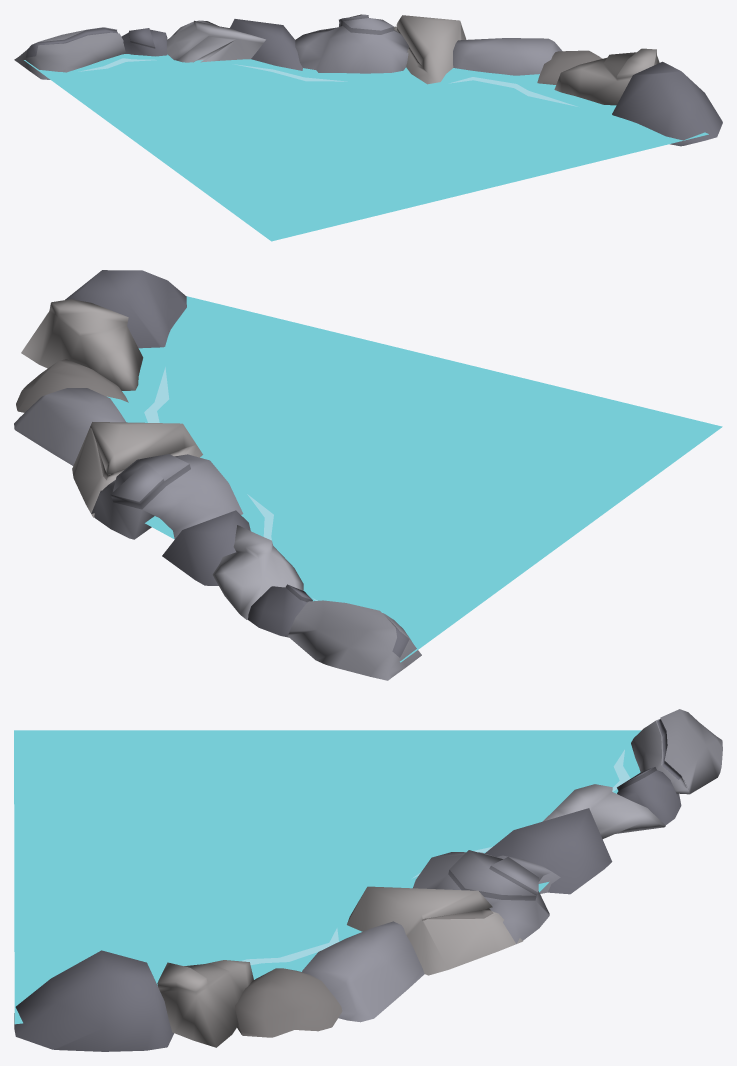
File: WaterPatchCurve_02.glb
The picture shows the model from 3 angles, top to bottom: view 1: azimuth 30°, elevation 25°; view 2: azimuth 150°, elevation 25°; view 3: azimuth 270°, elevation 25°; orthographic projection. The views are drawn at different scales.
Visible parts, largest first — view 1: WaterPatchCurve_02; view 2: WaterPatchCurve_02; view 3: WaterPatchCurve_02.
Boxes of the visible parts, left/top/right/bottom form: WaterPatchCurve_02: left=14, top=14, right=722, bottom=241; WaterPatchCurve_02: left=14, top=270, right=722, bottom=680; WaterPatchCurve_02: left=14, top=709, right=722, bottom=1051.
Size of what is drawn, in the model's own units: 7.04 by 0.7171 by 6.7.
1 material, 1 textured.
